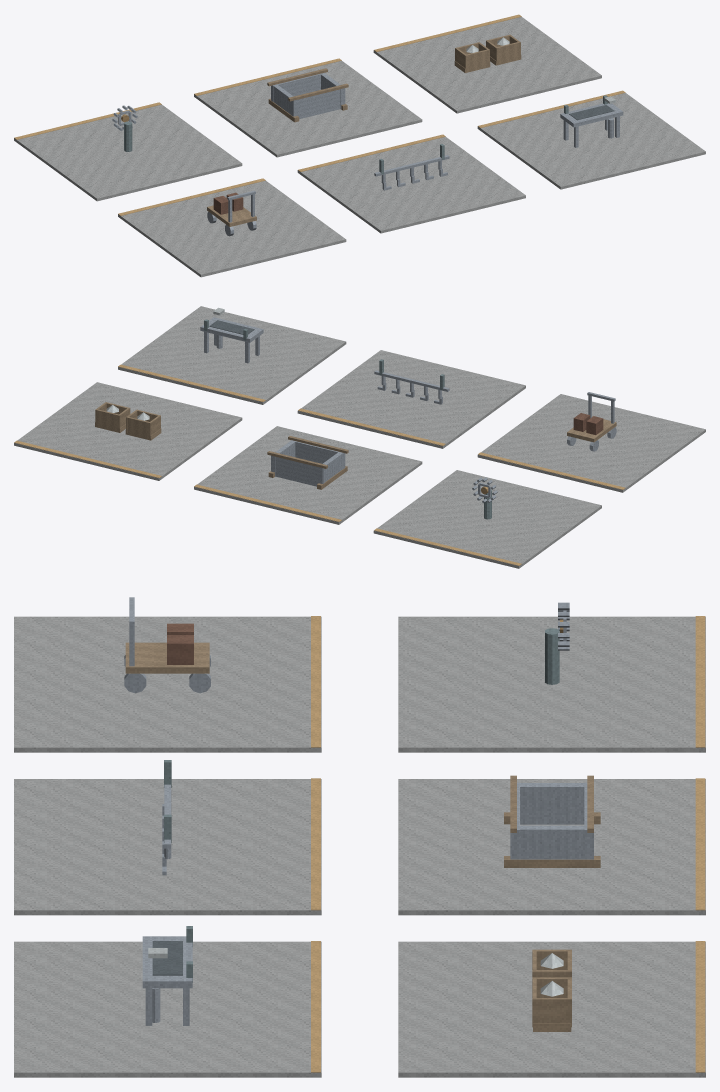
Rendered from level_blockout_kit_wld_15_p07.glb.
3 views of the same model, one above another, from view 1: azimuth 30°, elevation 25°; view 2: azimuth 150°, elevation 25°; view 3: azimuth 270°, elevation 25° (orthographic). The views are drawn at different scales.
Visible parts, largest first — view 1: level_blockout_kit_wld_15_p07; view 2: level_blockout_kit_wld_15_p07; view 3: level_blockout_kit_wld_15_p07.
Boxes of the visible parts, x1,y1,x2,y2 form: level_blockout_kit_wld_15_p07: (14,14,705,277); level_blockout_kit_wld_15_p07: (14,306,705,568); level_blockout_kit_wld_15_p07: (14,597,705,1077).
Bounding box in the file's own units: 19.65 × 1.65 × 12.6.
Materials: 9 (9 with a texture image).
